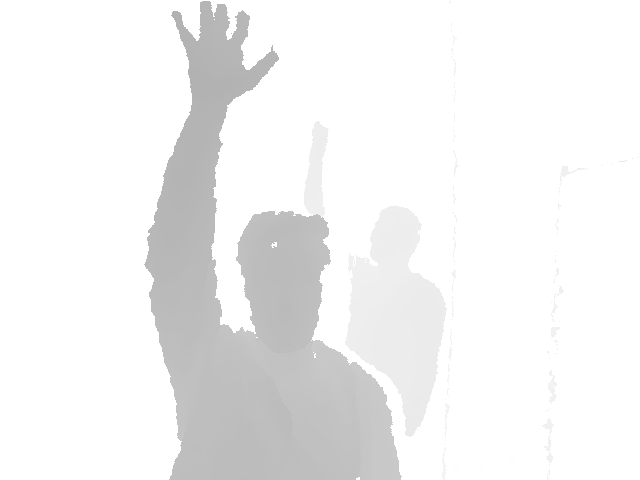hand: (171, 2, 279, 107), (311, 120, 328, 164)
head: (236, 211, 328, 353), (369, 204, 421, 274)
person: (141, 1, 405, 480), (303, 120, 449, 438)
